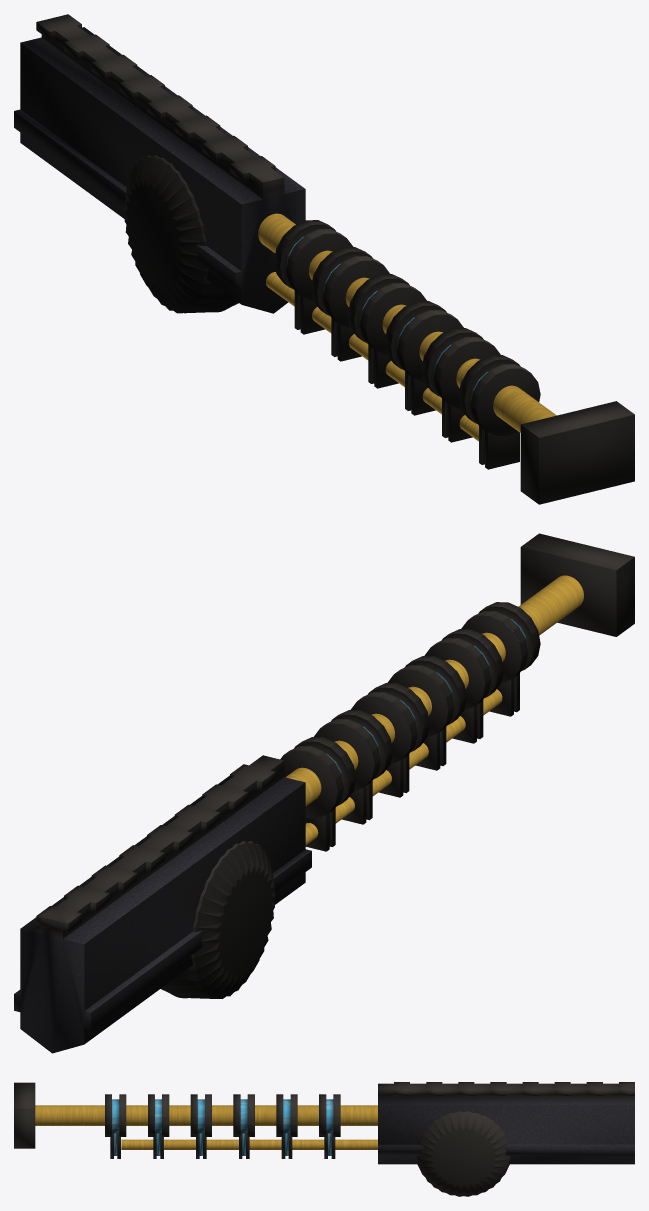
Rendered from GaussGun.fbx.
3 views of the same model, one above another, from view 1: azimuth 30°, elevation 25°; view 2: azimuth 150°, elevation 25°; view 3: azimuth 270°, elevation 25° (orthographic). The views are drawn at different scales.
Visible parts, largest first — view 1: Cube, Cube.001, Cylinder, Tube; view 2: Cube, Cube.001, Cylinder, Tube; view 3: Cube, Cube.001, Tube, Cylinder.
Boxes of the visible parts, x1,y1,x2,y2 form: Cube: [14, 14, 305, 313]; Cube.001: [274, 220, 634, 504]; Cylinder: [124, 155, 238, 313]; Tube: [258, 213, 556, 441]; Cube: [14, 755, 311, 1053]; Cube.001: [280, 533, 634, 851]; Cylinder: [161, 841, 274, 998]; Tube: [285, 575, 583, 845]; Cube: [378, 1082, 634, 1164]; Cube.001: [14, 1082, 340, 1158]; Tube: [35, 1105, 377, 1149]; Cylinder: [417, 1111, 510, 1196].
Size of the model in its own units: 0.75 by 1.35 by 7.25.
4 materials, 4 textured.
